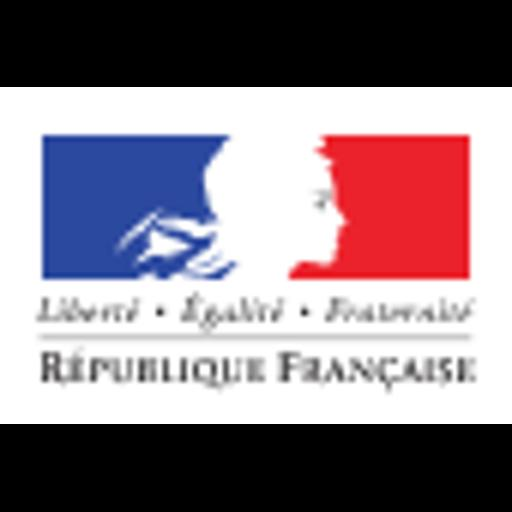DGI -French Tax Authority-: (0, 87, 512, 424)
